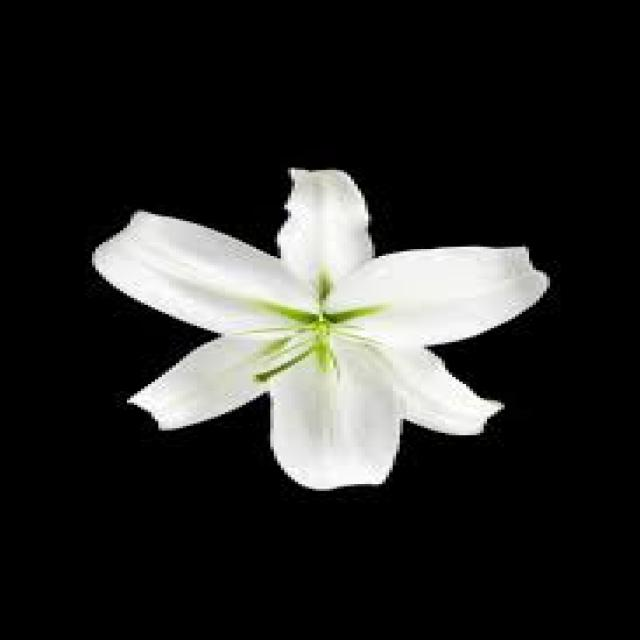lily: (54, 140, 556, 530)
